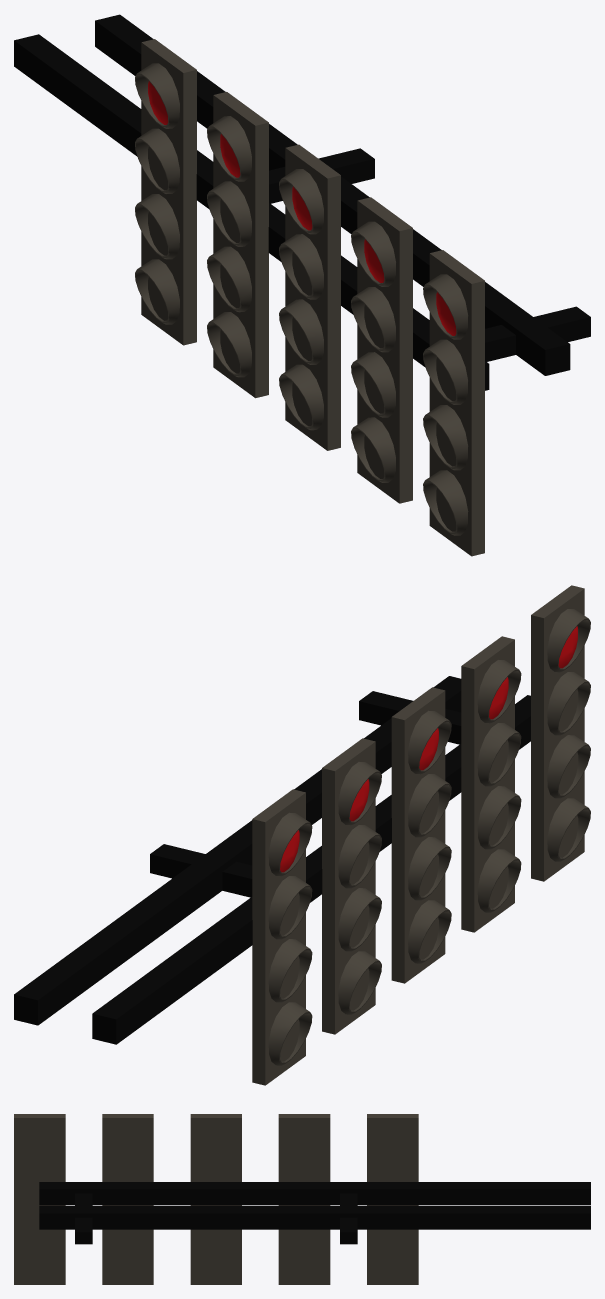
Rendered from starting lights.obj.
The picture shows the model from 3 angles, top to bottom: view 1: azimuth 30°, elevation 25°; view 2: azimuth 150°, elevation 25°; view 3: azimuth 270°, elevation 25°; orthographic projection. The views are drawn at different scales.
Parts seen in each view (by area): view 1: Meshpart10, Meshpart5, Meshpart8, Meshpart1, Meshpart4, Part2, Part1, Meshpart3, Meshpart6, Meshpart2, Meshpart7, Meshpart9 (+2 smaller); view 2: Part1, Part2, Meshpart8, Meshpart1, Meshpart10, Meshpart4, Meshpart5, Meshpart2, Meshpart9, Meshpart7, Meshpart3, Meshpart6 (+2 smaller); view 3: Part1, Part2, Meshpart4, Meshpart5, Meshpart1, Meshpart10, Meshpart8, Part3, Part4.
Part boxes in pixels (bbox=[...]): Meshpart10: bbox=[141, 39, 196, 345]; Meshpart5: bbox=[213, 92, 268, 398]; Meshpart8: bbox=[285, 144, 340, 450]; Meshpart1: bbox=[357, 197, 412, 503]; Meshpart4: bbox=[429, 250, 484, 556]; Part2: bbox=[14, 34, 489, 390]; Part1: bbox=[95, 14, 570, 375]; Meshpart3: bbox=[207, 116, 251, 377]; Meshpart6: bbox=[279, 169, 323, 430]; Meshpart2: bbox=[351, 221, 395, 482]; Meshpart7: bbox=[423, 274, 468, 535]; Meshpart9: bbox=[135, 63, 179, 324]; Part1: bbox=[14, 676, 461, 1025]; Part2: bbox=[92, 695, 530, 1044]; Meshpart8: bbox=[391, 687, 445, 983]; Meshpart1: bbox=[461, 636, 514, 932]; Meshpart10: bbox=[252, 789, 305, 1085]; Meshpart4: bbox=[531, 585, 584, 881]; Meshpart5: bbox=[322, 738, 375, 1034]; Meshpart2: bbox=[477, 660, 521, 912]; Meshpart9: bbox=[268, 812, 312, 1065]; Meshpart7: bbox=[547, 609, 590, 861]; Meshpart3: bbox=[338, 762, 381, 1014]; Meshpart6: bbox=[408, 710, 451, 963]; Part1: bbox=[39, 1206, 590, 1229]; Part2: bbox=[39, 1182, 590, 1205]; Meshpart4: bbox=[14, 1114, 65, 1284]; Meshpart5: bbox=[278, 1114, 330, 1284]; Meshpart1: bbox=[102, 1114, 153, 1284]; Meshpart10: bbox=[367, 1114, 418, 1284]; Meshpart8: bbox=[190, 1114, 241, 1284]; Part3: bbox=[75, 1193, 92, 1244]; Part4: bbox=[340, 1193, 357, 1244].
Bounding box in the file's own units: 4.45 × 6.2 × 19.41.
